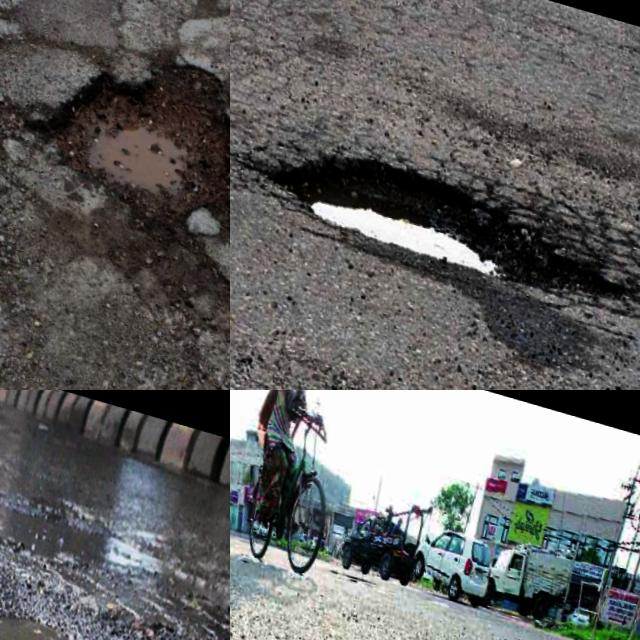Potholes: (230, 64, 640, 353), (16, 3, 230, 310), (0, 437, 230, 640), (230, 549, 640, 640)
